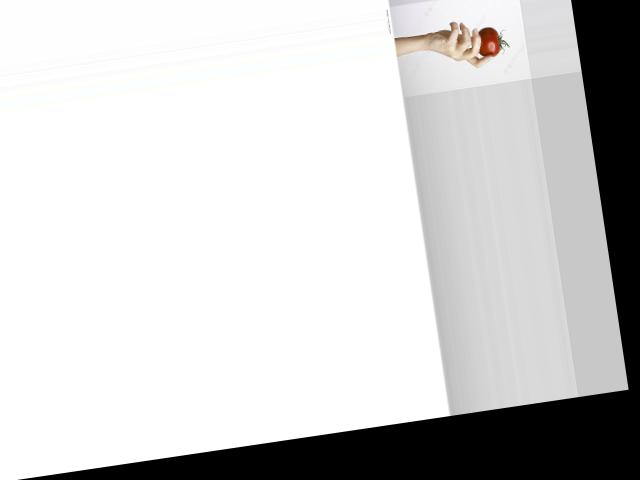tomato: (476, 24, 510, 57)
